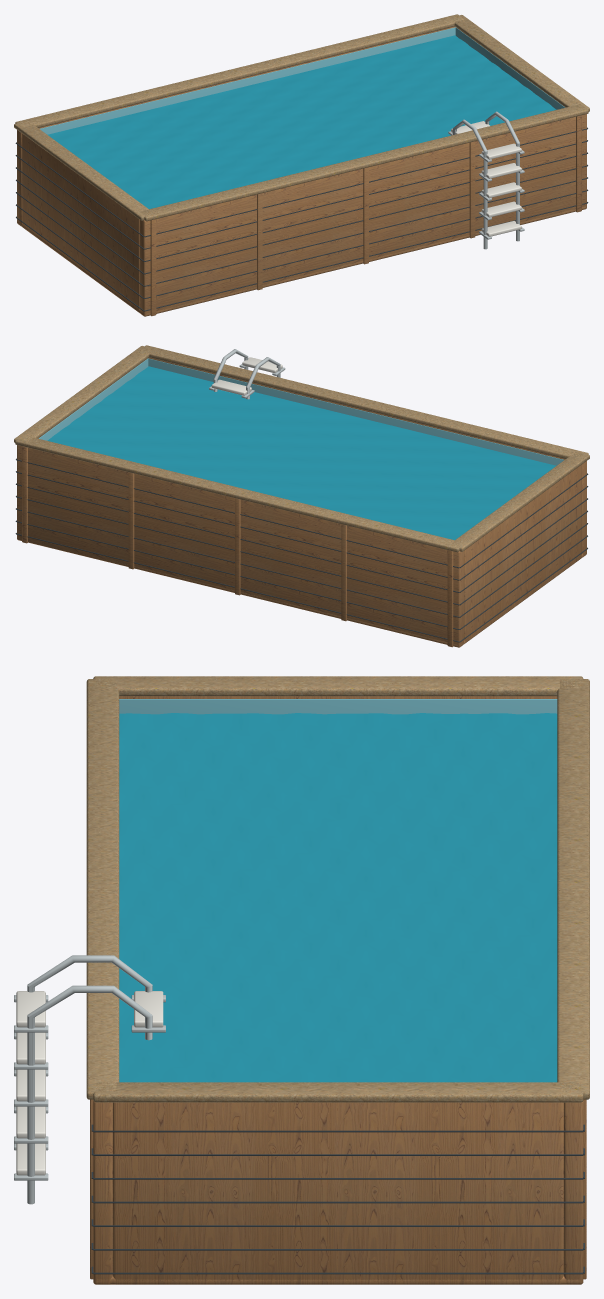
File: piscina_elevada_exterior.glb
3 renders of one model, top to bottom at view 1: azimuth 30°, elevation 25°; view 2: azimuth 150°, elevation 25°; view 3: azimuth 270°, elevation 25°, orthographic. The views are drawn at different scales.
Visible parts, largest first — view 1: piscina_elevada_exterior; view 2: piscina_elevada_exterior; view 3: piscina_elevada_exterior.
Boxes of the visible parts, box(x1,y1,x2,y2) form: piscina_elevada_exterior: box(14, 14, 589, 316); piscina_elevada_exterior: box(14, 345, 589, 647); piscina_elevada_exterior: box(14, 676, 589, 1284).
Bounding box in the file's own units: 6.08 × 1.48 × 3.53.
Materials: 7 (2 with a texture image).
